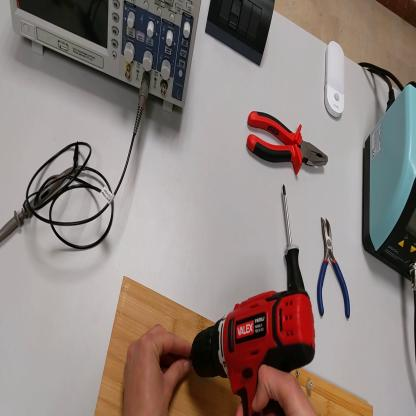electric screwdriver: (192, 292, 317, 416)
hand: (123, 325, 194, 416), (234, 367, 314, 414)
oscilloscope: (10, 2, 203, 114)
oscilloscope probe tip: (2, 164, 85, 244)
pliers: (246, 103, 333, 175), (316, 212, 351, 321)
screwdriver-: (281, 182, 309, 296)
welder station: (363, 83, 416, 280)
working area: (96, 277, 375, 416)
